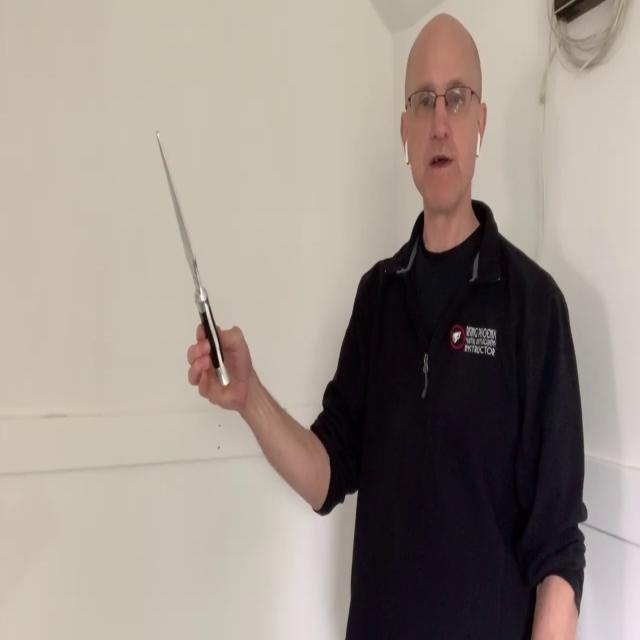Knife_Handle: (156, 129, 252, 411)
